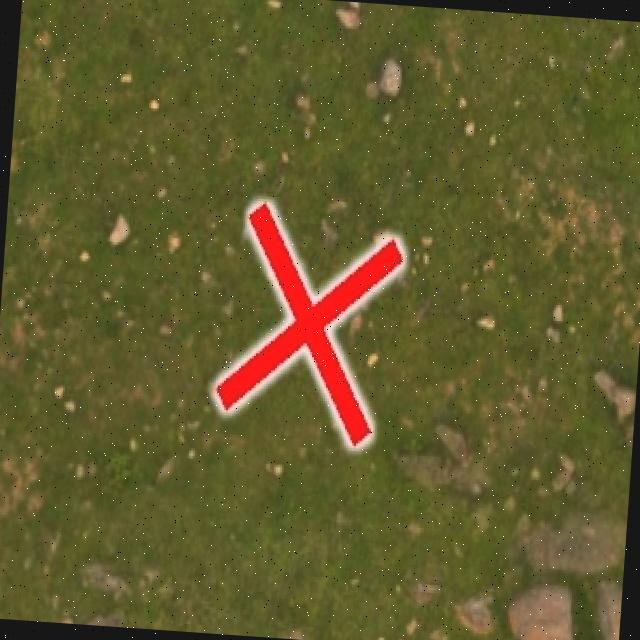x_marker: (212, 200, 404, 446)
